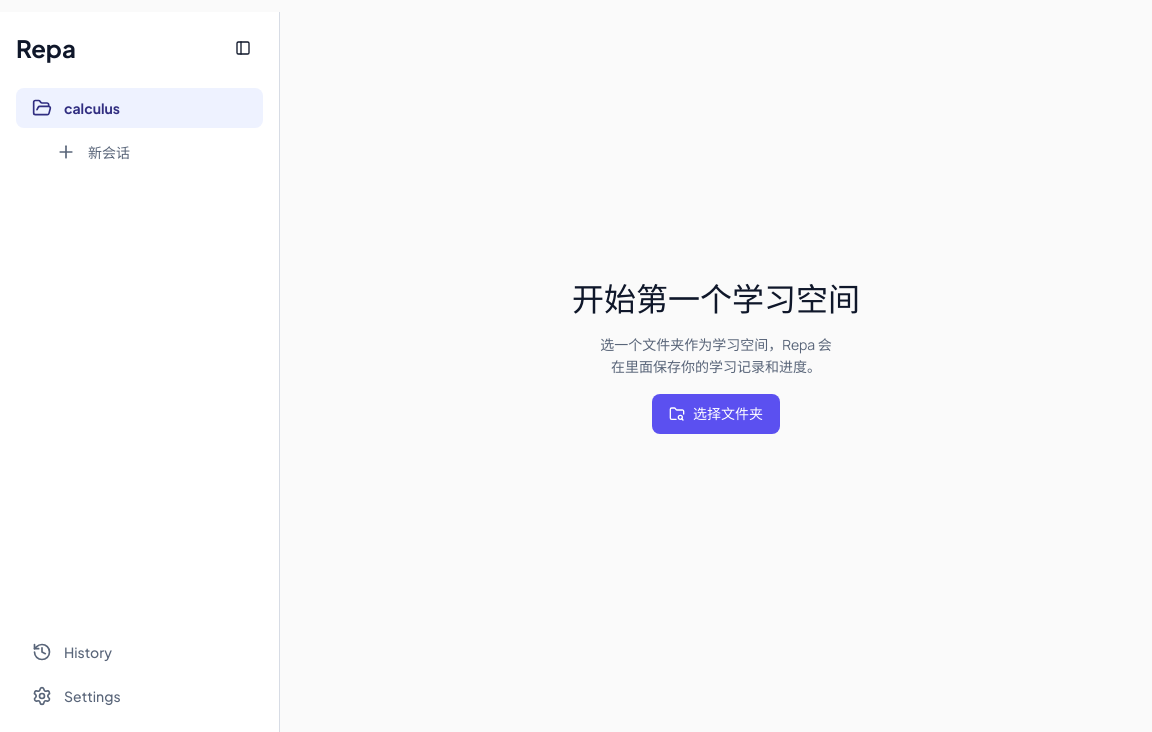
it: 打开空间后侧栏出现 History，进入修改历史页；没有打开空间时回到 Learning Space
Click the link "History": [72, 652] box [32,642,112,662]
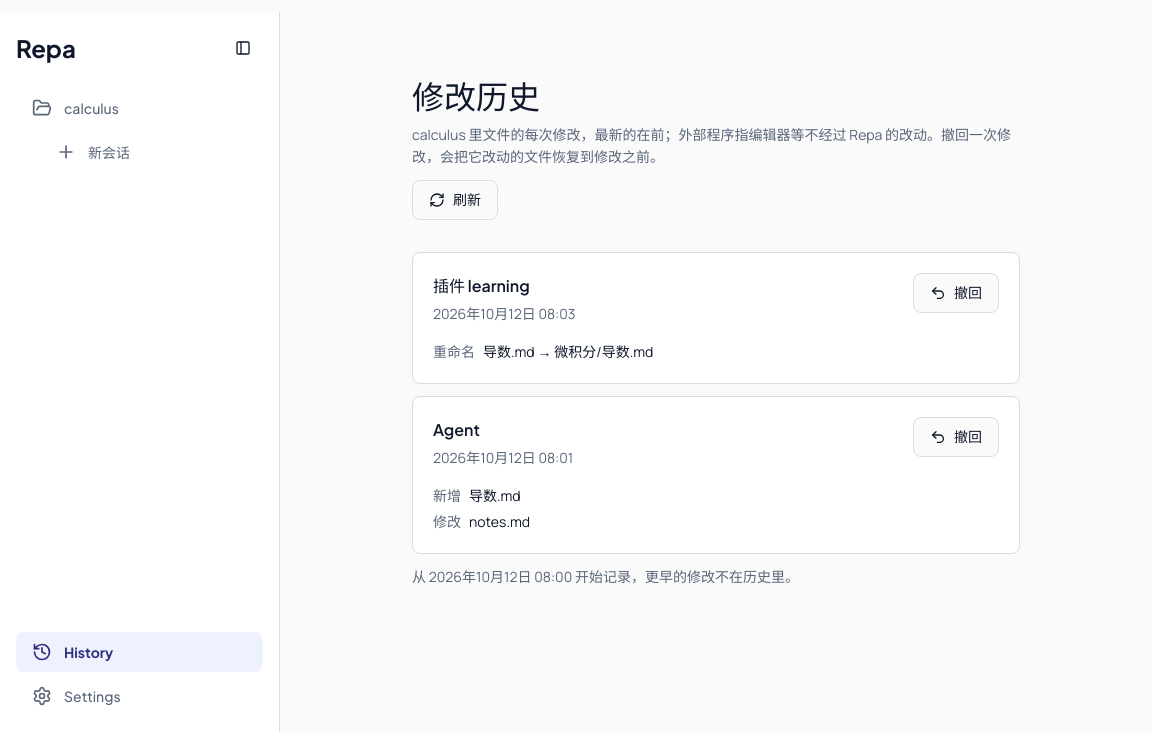
Expected: the heading "修改历史" is shown, [412,76,540,116]
